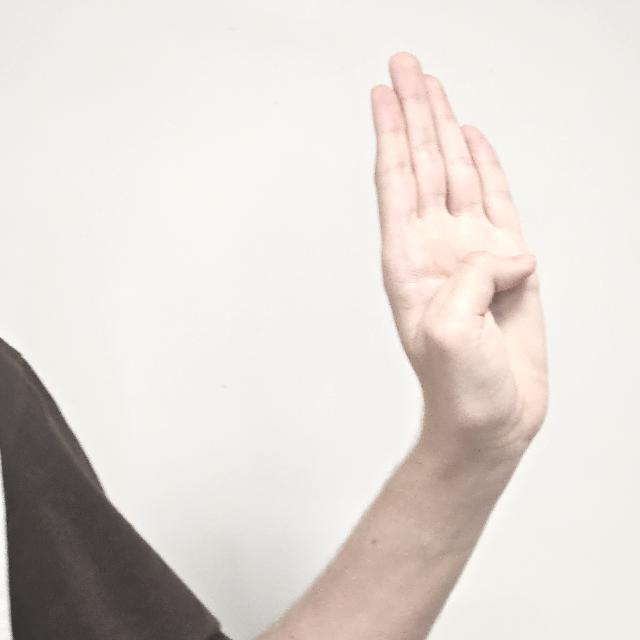Baixo: (356, 37, 556, 473)
